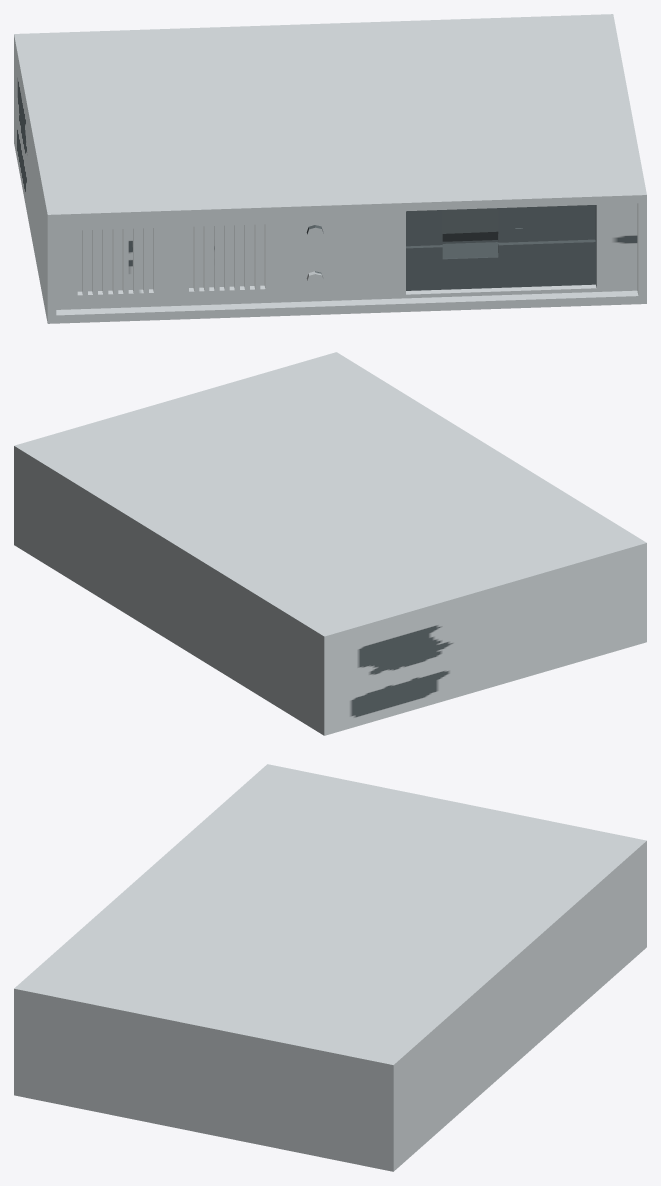
File: pc.case.gltf
The picture shows the model from 3 angles, top to bottom: view 1: azimuth 30°, elevation 25°; view 2: azimuth 150°, elevation 25°; view 3: azimuth 270°, elevation 25°; orthographic projection. The views are drawn at different scales.
Visible parts, largest first — view 1: pc.case; view 2: pc.case; view 3: pc.case.
Part boxes in pixels (<box>): pc.case: <box>14,14,646,323</box>; pc.case: <box>14,352,646,735</box>; pc.case: <box>14,764,646,1171</box>.
Bounding box in the file's own units: 16.94 × 2.8 × 15.05.
1 material, 1 textured.
